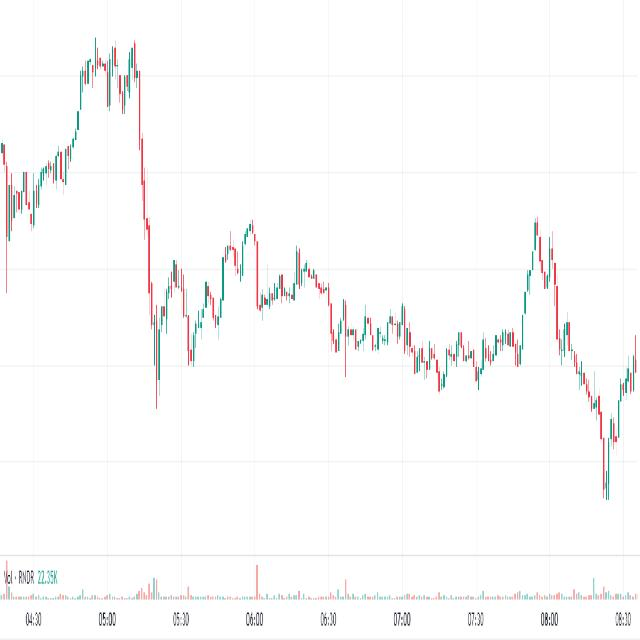Double-Top: (520, 206, 563, 320)
Triangle: (136, 144, 352, 417)
